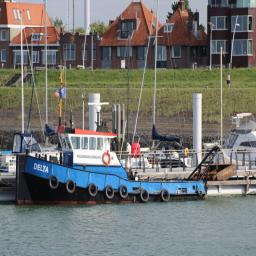tugboat: (15, 102, 209, 212)
